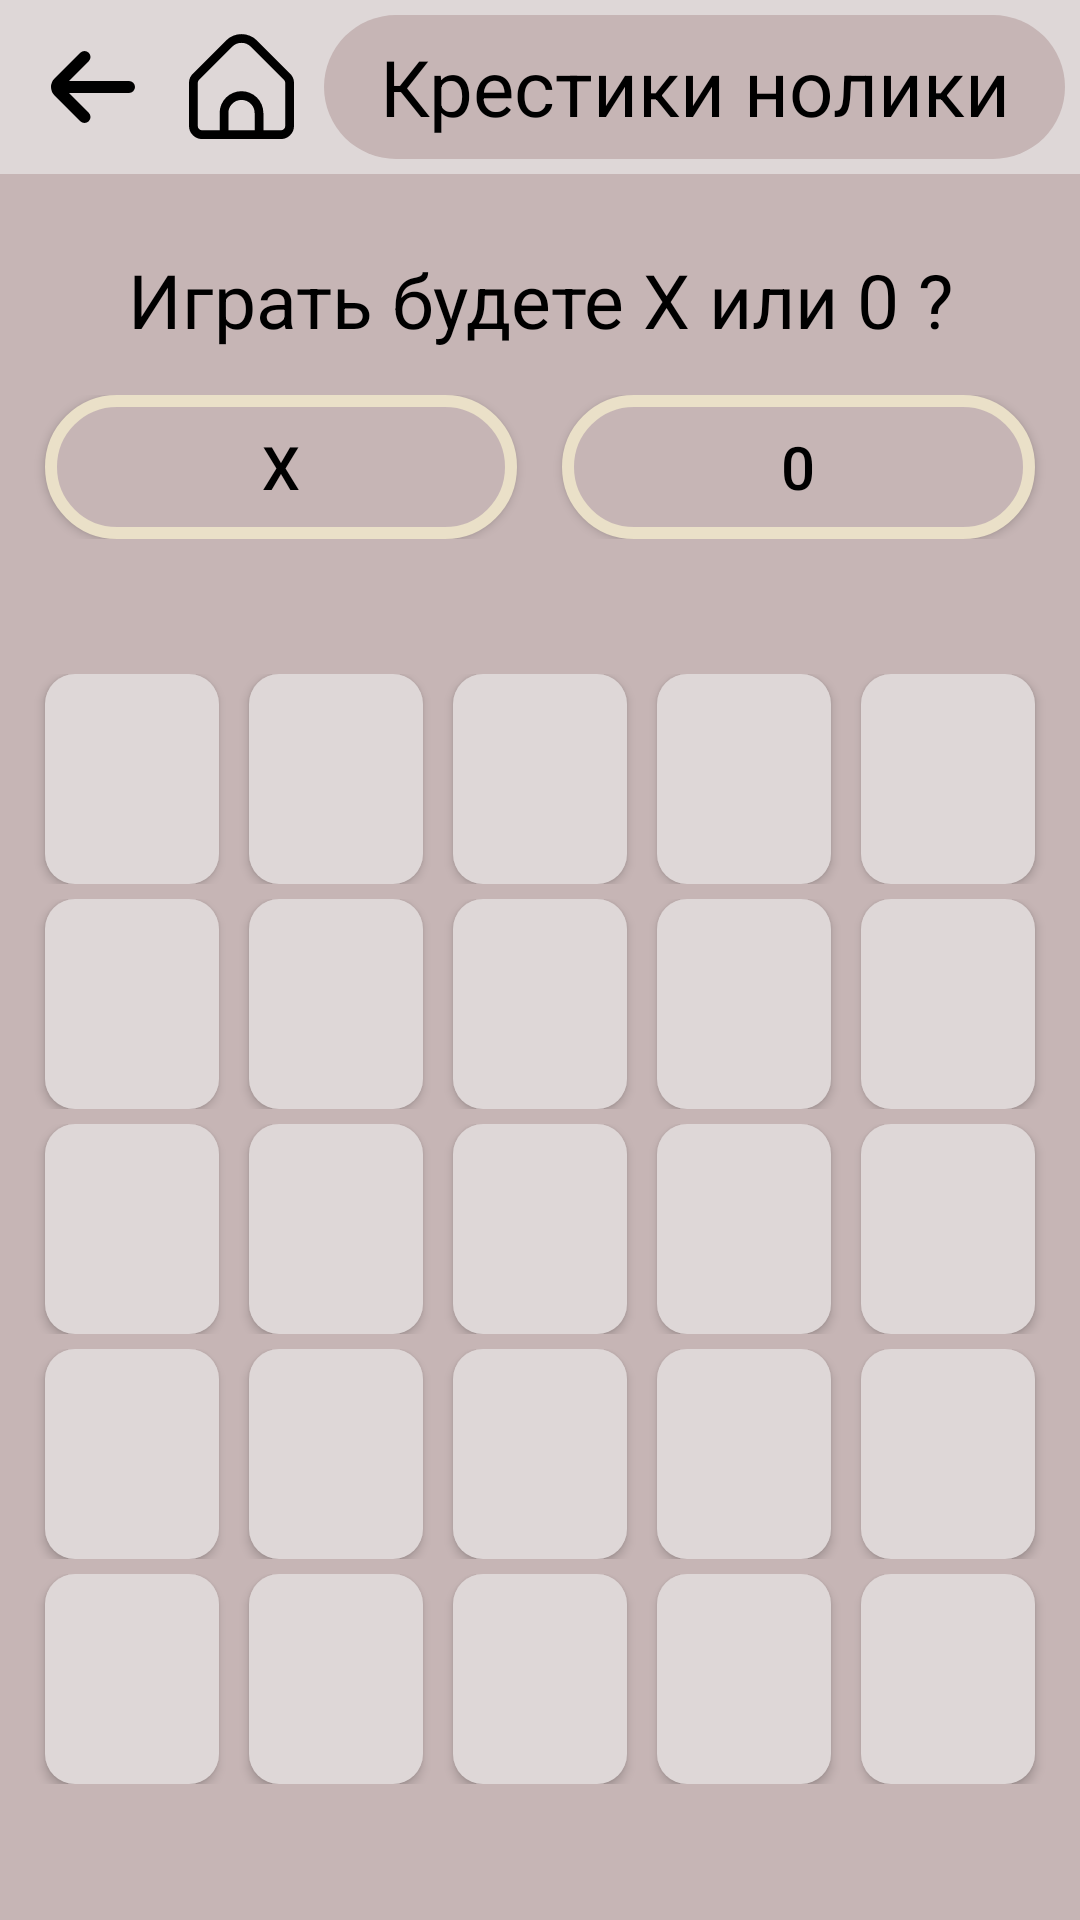

Where icons sit on this 1080×1920 app screen, as (x1, y1, x2, y2):
back: (51, 51, 135, 123)
back to main screen: (189, 34, 294, 139)
